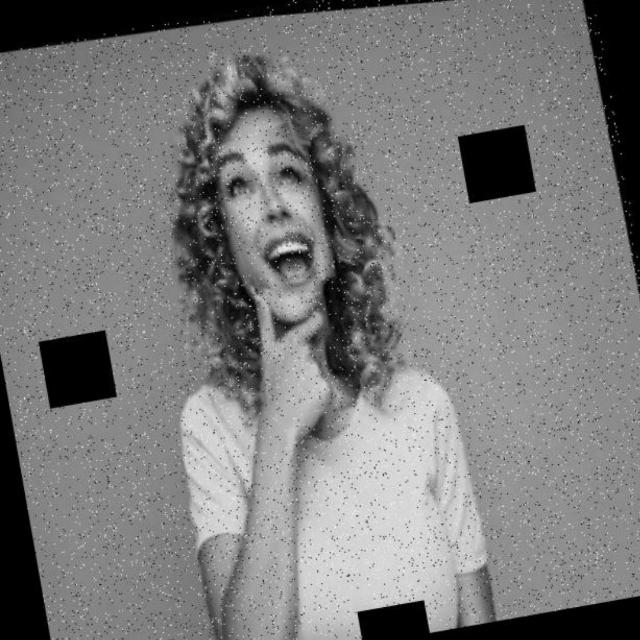Surprised: (208, 95, 344, 338)
